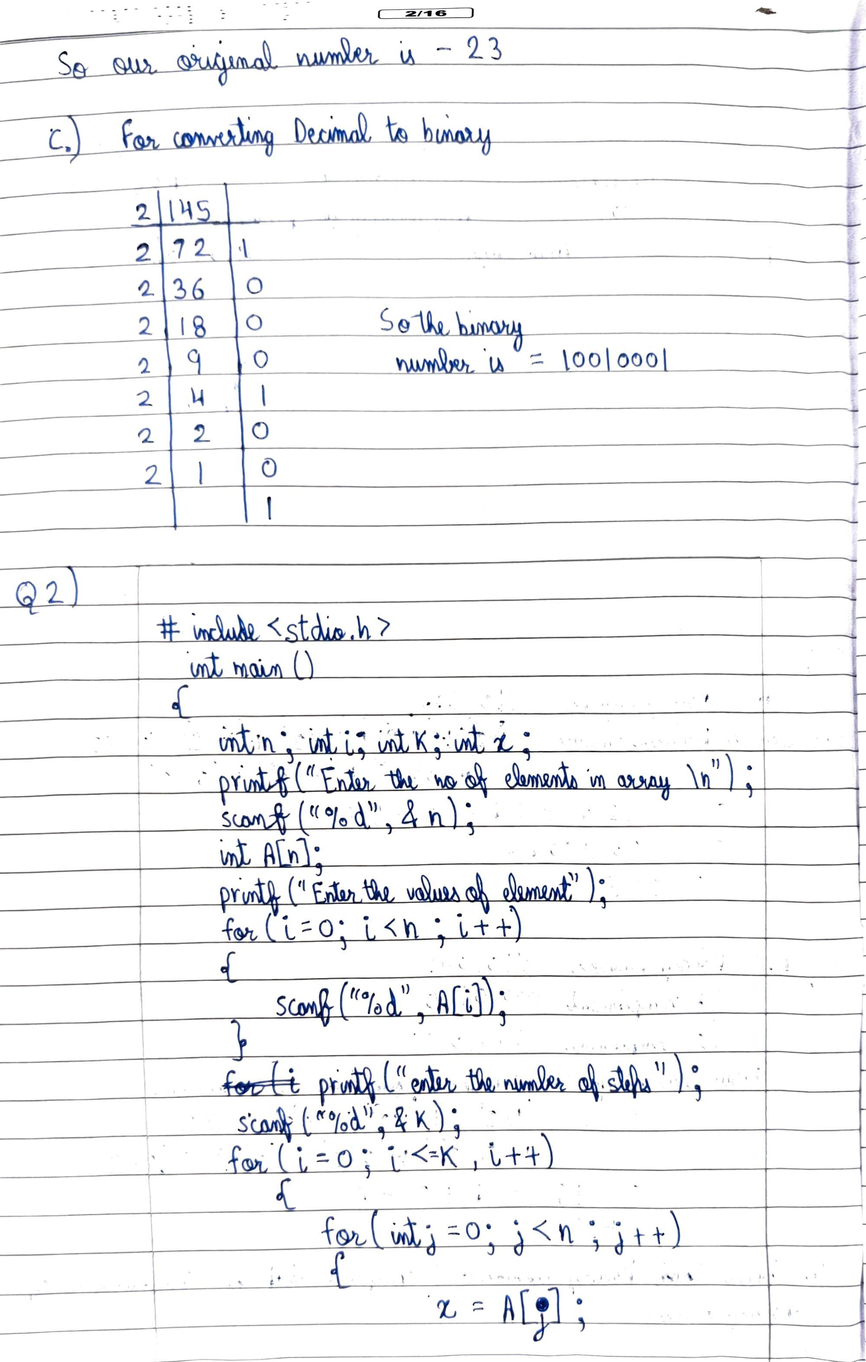cuttings: (222, 1060, 301, 1100)
